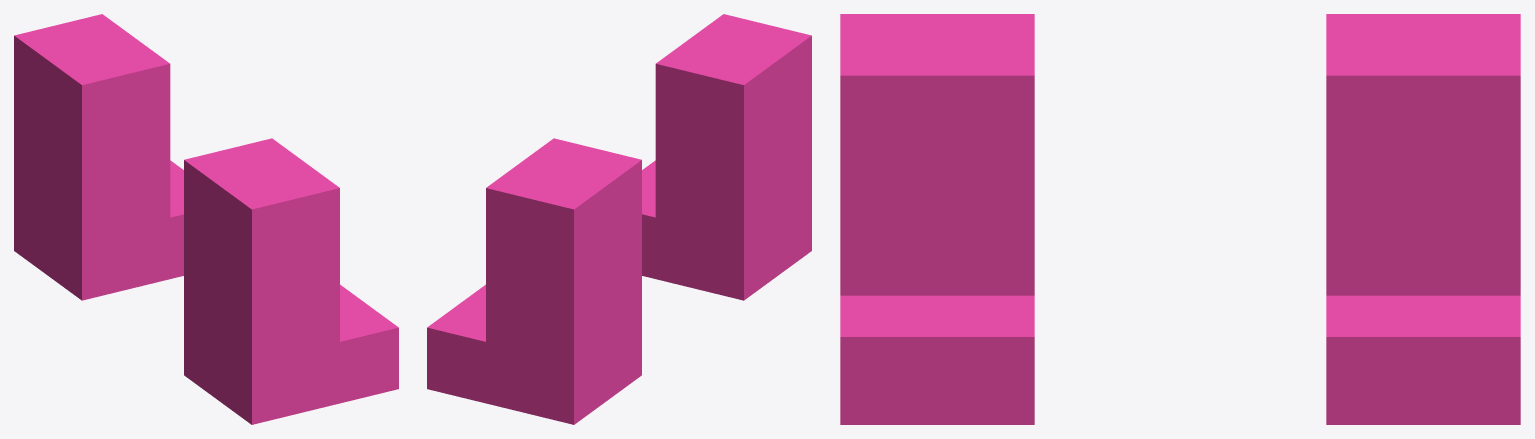
File: satboy_V3_legs_compressed.gltf
3 renders of one model, left to right at view 1: azimuth 30°, elevation 25°; view 2: azimuth 150°, elevation 25°; view 3: azimuth 270°, elevation 25°, orthographic. The views are drawn at different scales.
Visible parts, largest first — view 1: leg R 002, leg L 002; view 2: leg L 002, leg R 002; view 3: leg R 002, leg L 002.
Part boxes in pixels (bbox=[...]): leg R 002: bbox=[184, 138, 398, 424]; leg L 002: bbox=[14, 14, 183, 300]; leg L 002: bbox=[427, 138, 641, 424]; leg R 002: bbox=[642, 14, 811, 300]; leg R 002: bbox=[840, 14, 1034, 424]; leg L 002: bbox=[1326, 14, 1520, 424].
Bounding box in the file's own units: 5 × 7 × 14.
